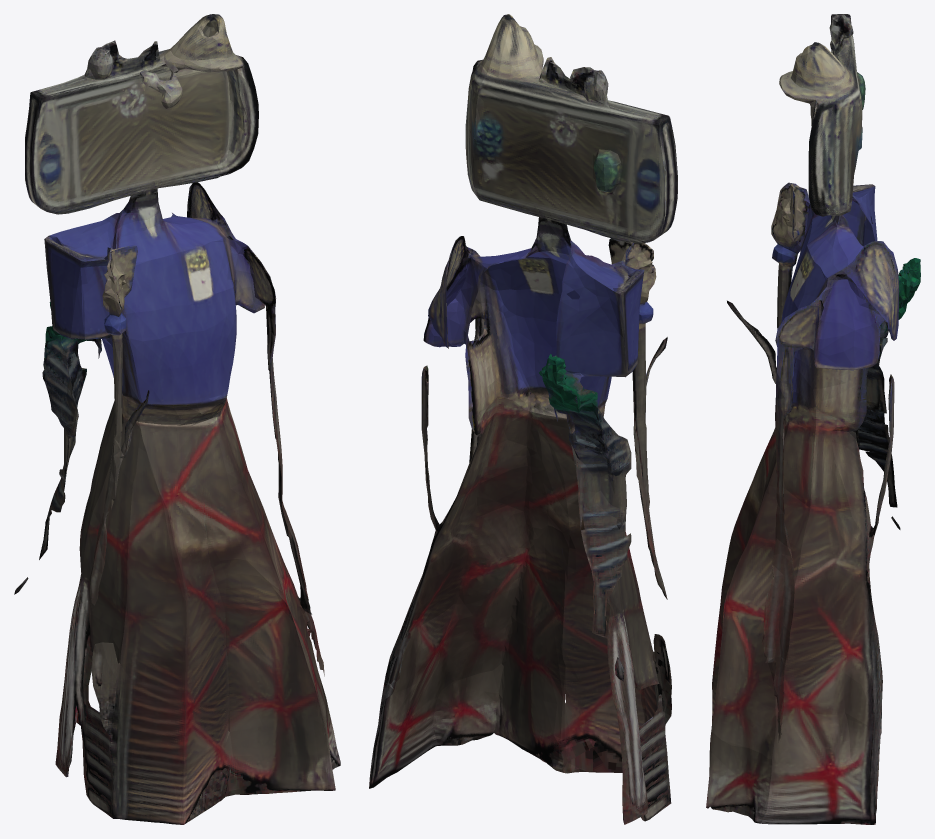
The picture shows the model from 3 angles, left to right: view 1: azimuth 30°, elevation 25°; view 2: azimuth 150°, elevation 25°; view 3: azimuth 270°, elevation 25°; orthographic projection. The views are drawn at different scales.
Parts seen in each view (by area): view 1: world; view 2: world; view 3: world.
Boxes of the visible parts, x1,y1,x2,y2 form: world: (14,14,340,824); world: (369,14,677,824); world: (706,14,920,824).
Size of the model in its own units: 0.385 by 1 by 0.2659.
1 material, 1 textured.
